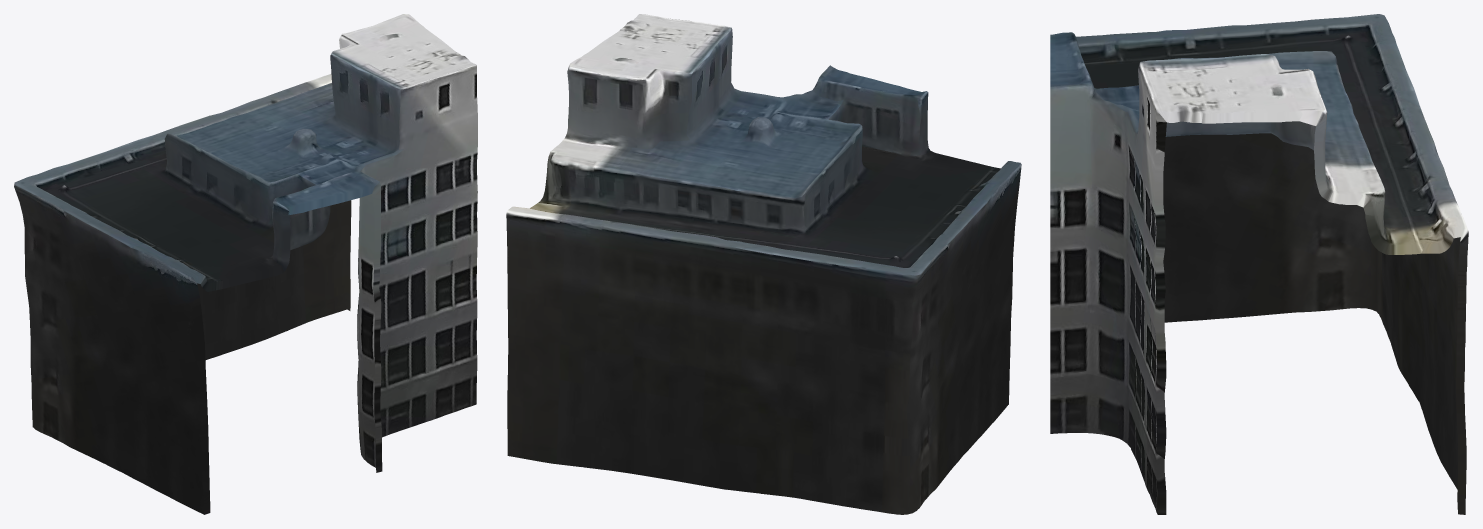
The model's file is z20-167765-405236-h1-yup-uvflip-v3-world.glb.
3 renders of one model, left to right at view 1: azimuth 30°, elevation 25°; view 2: azimuth 150°, elevation 25°; view 3: azimuth 270°, elevation 25°, orthographic. The views are drawn at different scales.
Size of the model in its own units: 28.72 by 25.32 by 23.68.
1 material, 1 textured.
